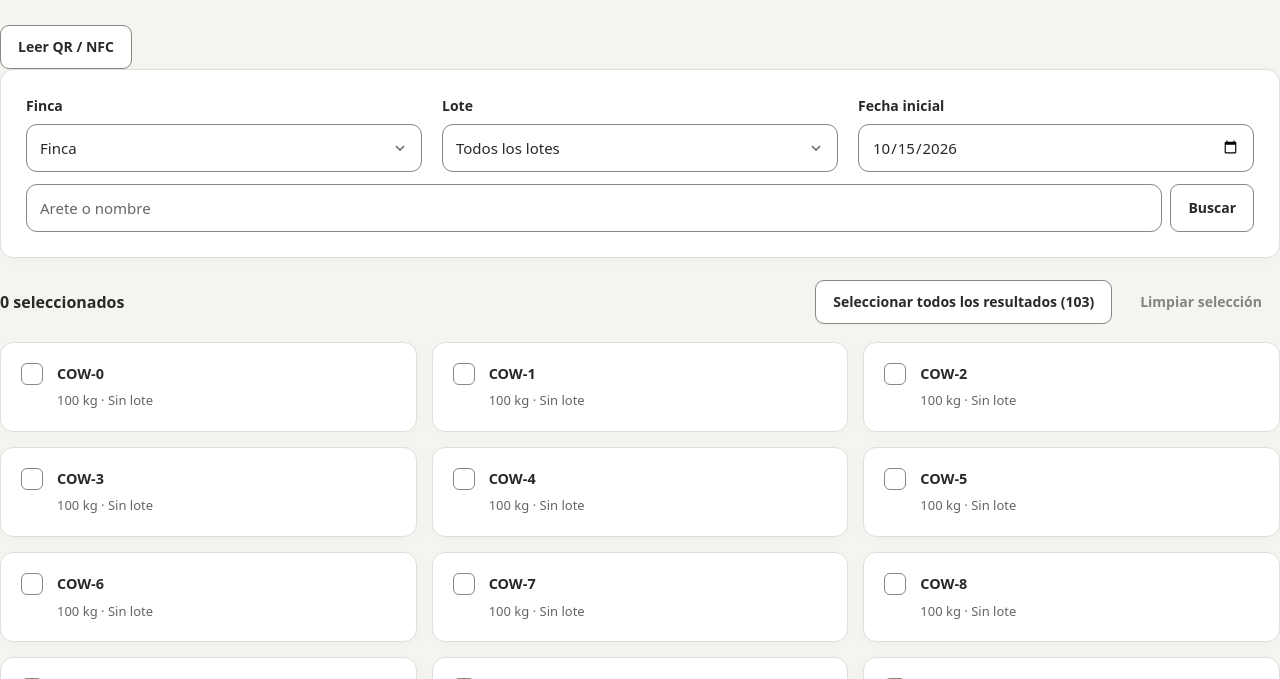
Test: selects every search result beyond the visible page and the former fifty-animal cap
Click the button "Seleccionar todos los resultados (103)" at [964, 302], box [815,280,1112,324]
(page scrolled)
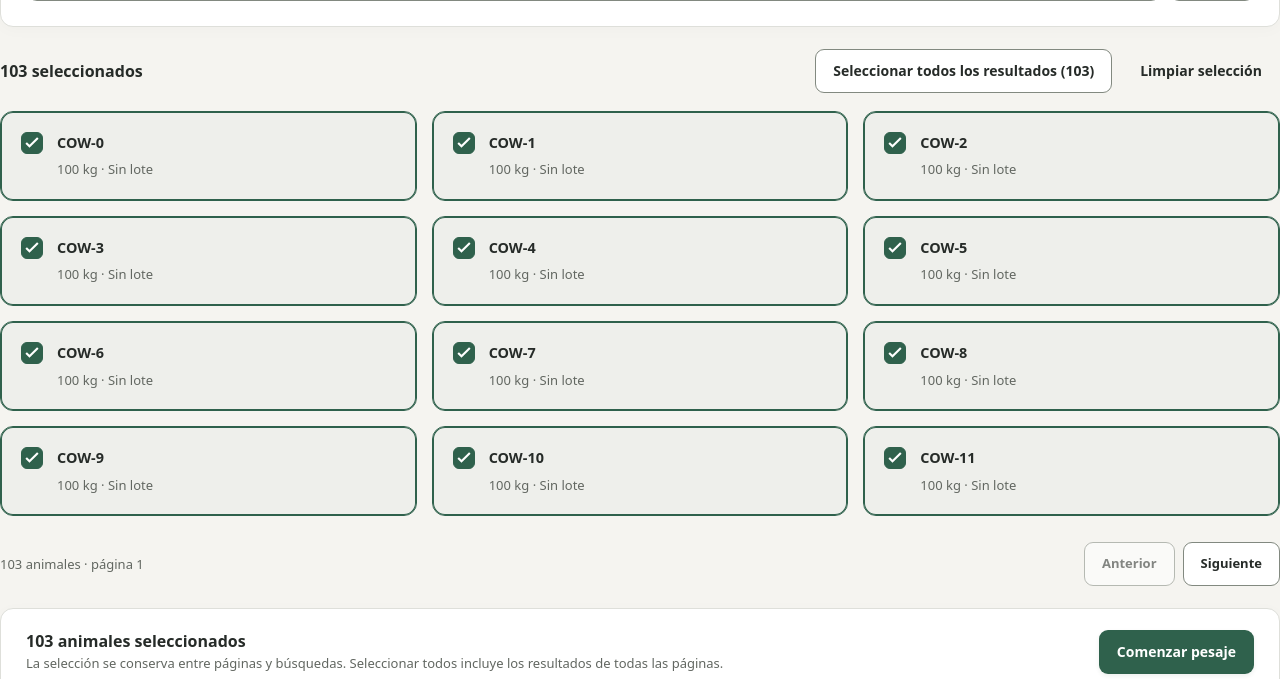
Expected: the text "103 animales seleccionados" is shown, [26,630,246,652]
Click the button "Comenzar pesaje" at [1176, 652], box [1099,630,1254,674]
(page scrolled)
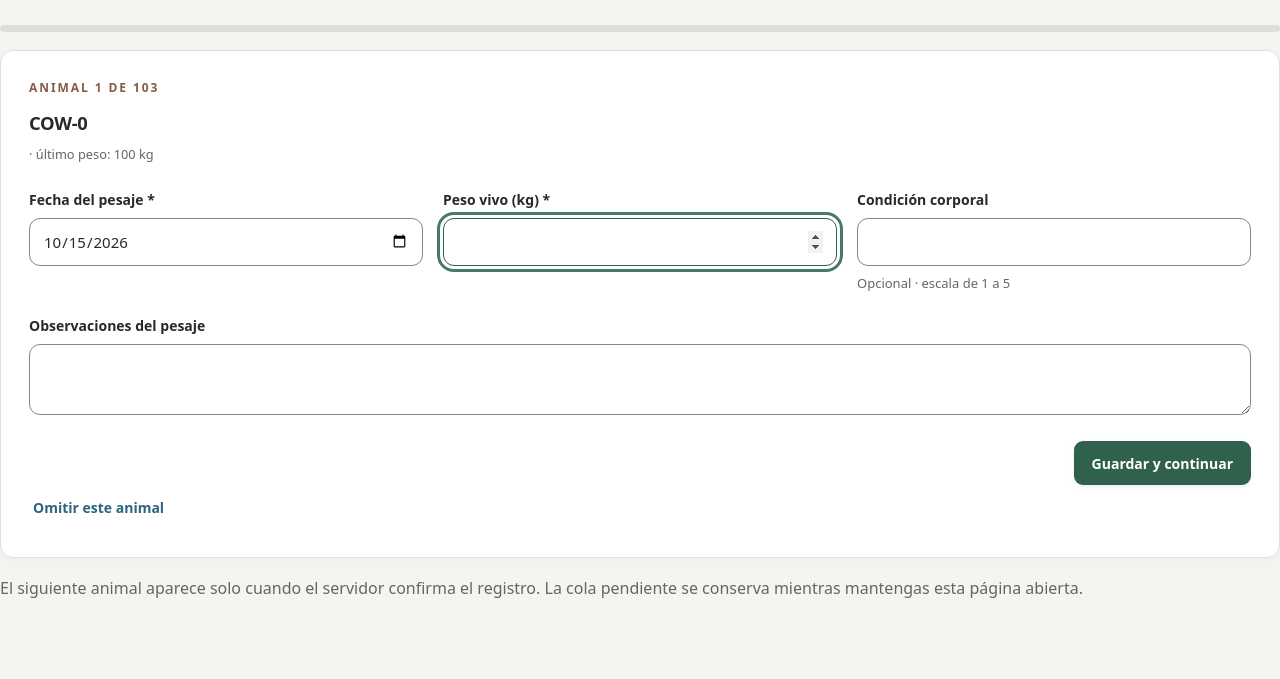
Expected: the text "ANIMAL 1 DE 103" is shown, [29,79,159,97]
